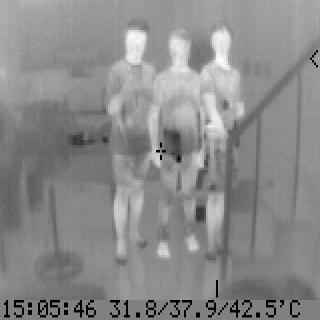Gun: (160, 125, 184, 165)
